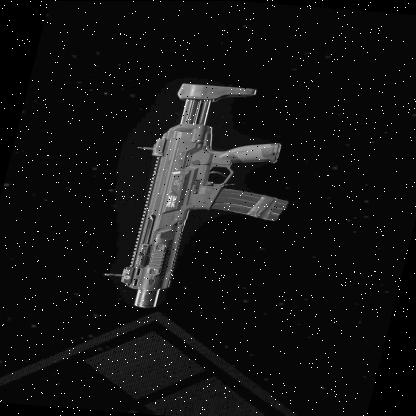rifle: (86, 75, 326, 324)
